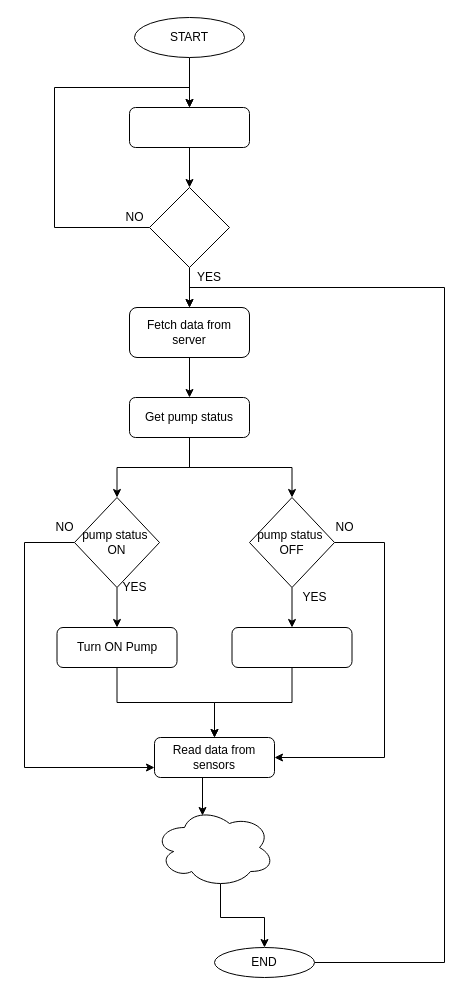
The diagram is 470 pixels wide and 995 high, and some of its shapes have lost their labels. Each missing label, with the centre of its shape:
Connect to network: the point at 189,127
Network connected: the point at 189,227
Send data to cloud: the point at 214,847
Turn OFF Pump: the point at 291,647
